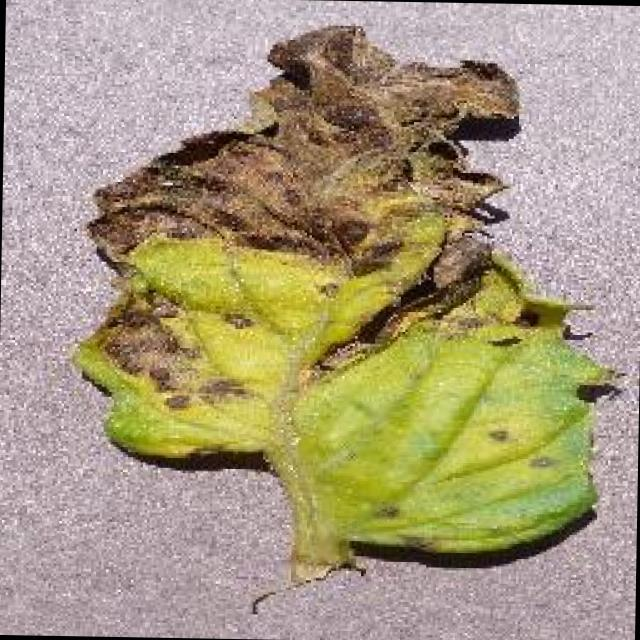Tomato Septoria spot leaf: (70, 14, 606, 555)
